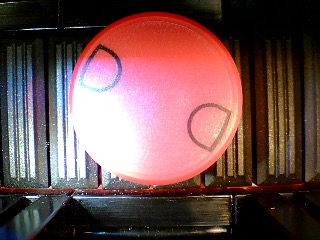MIPO2: (68, 12, 244, 186)
